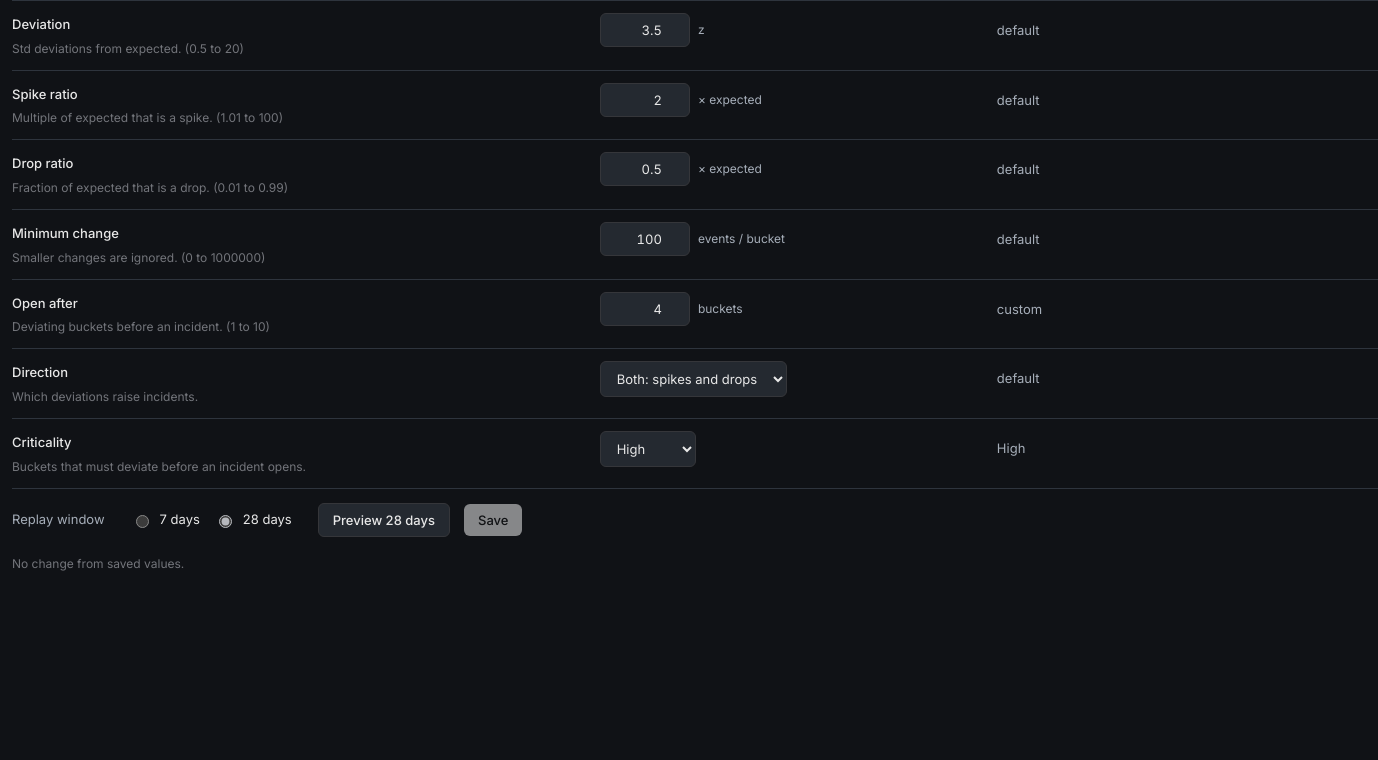
Test case: the preview and criticality › says nothing about criticality when the answer has no effective block
Select "Low" in the dropdown labelled "Criticality" at (648, 449), box [600,431,696,467]
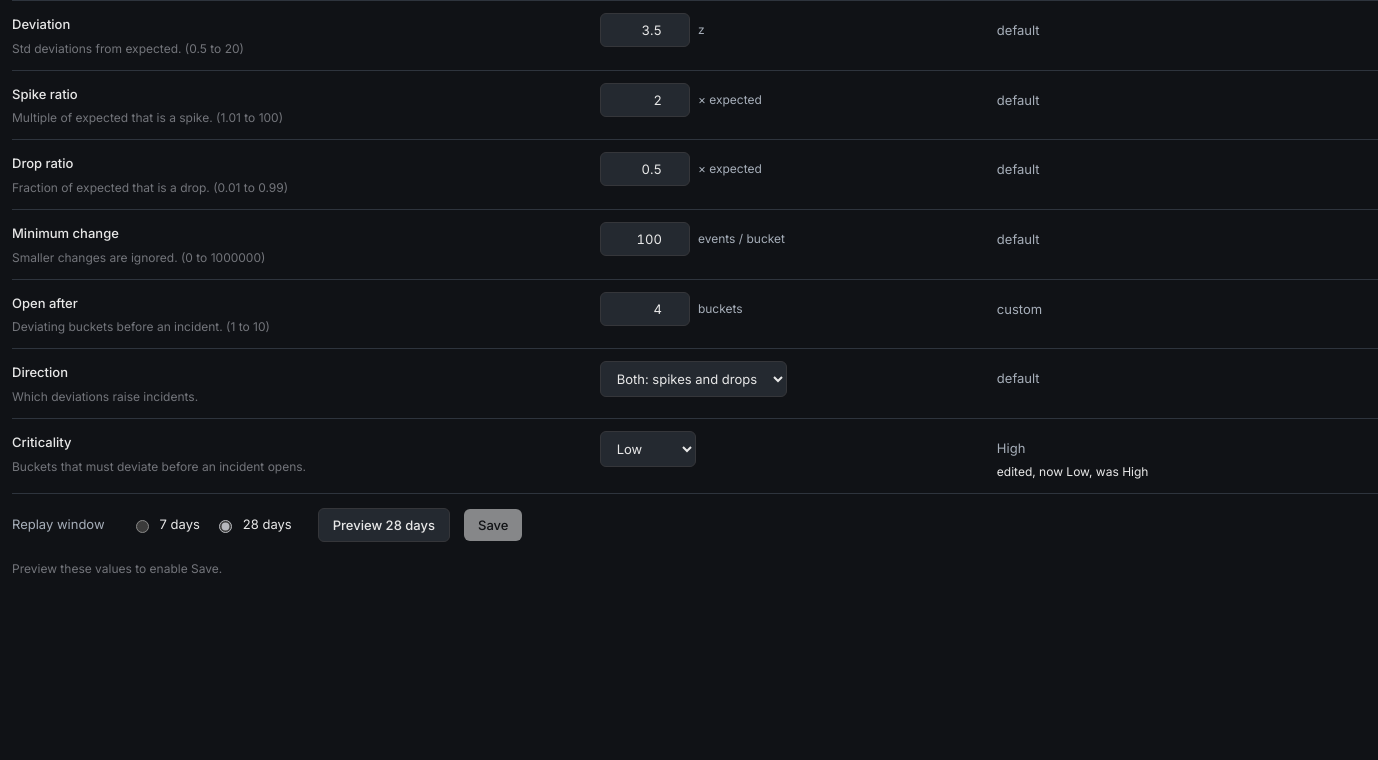
Click the button "Preview 28 days" at (384, 525), box [318,508,450,542]
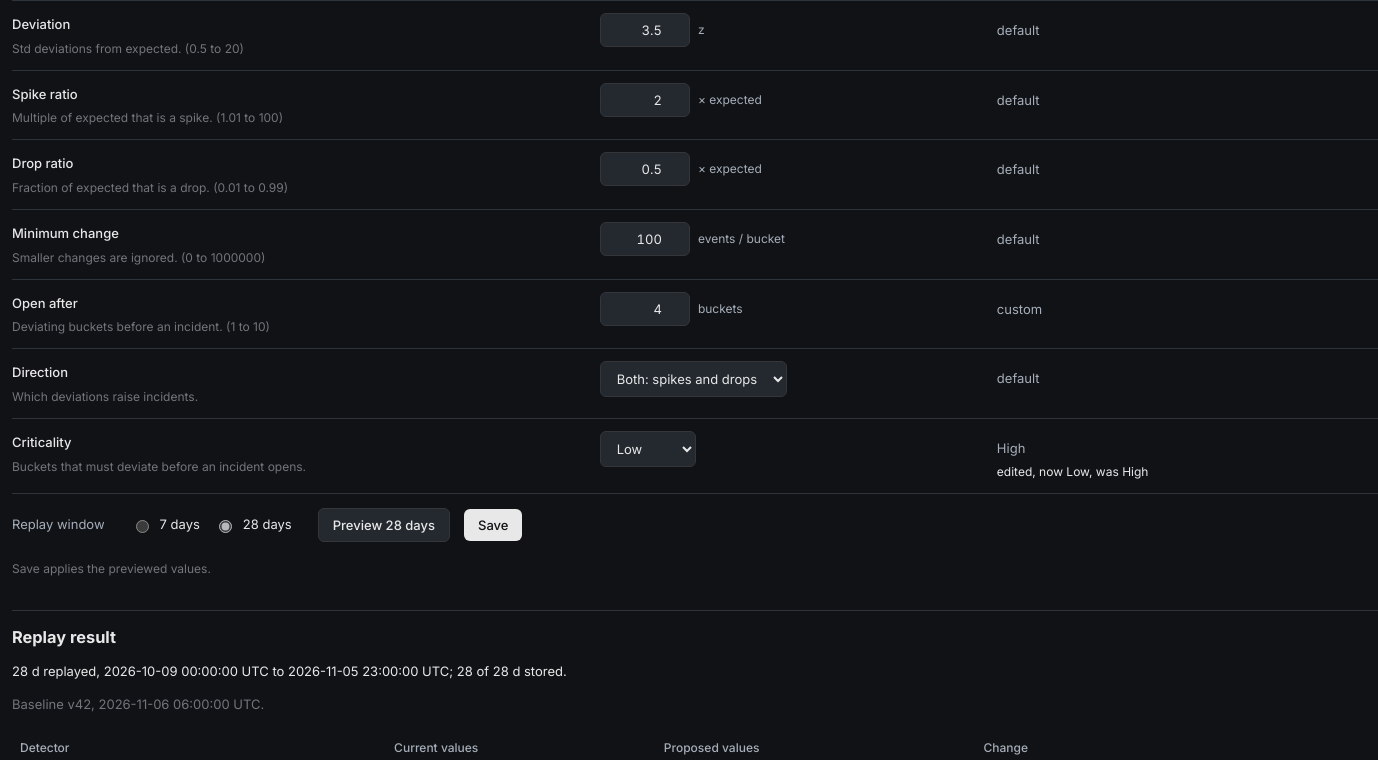
Now the heading "Replay result" is shown, box [12,627,116,647]
